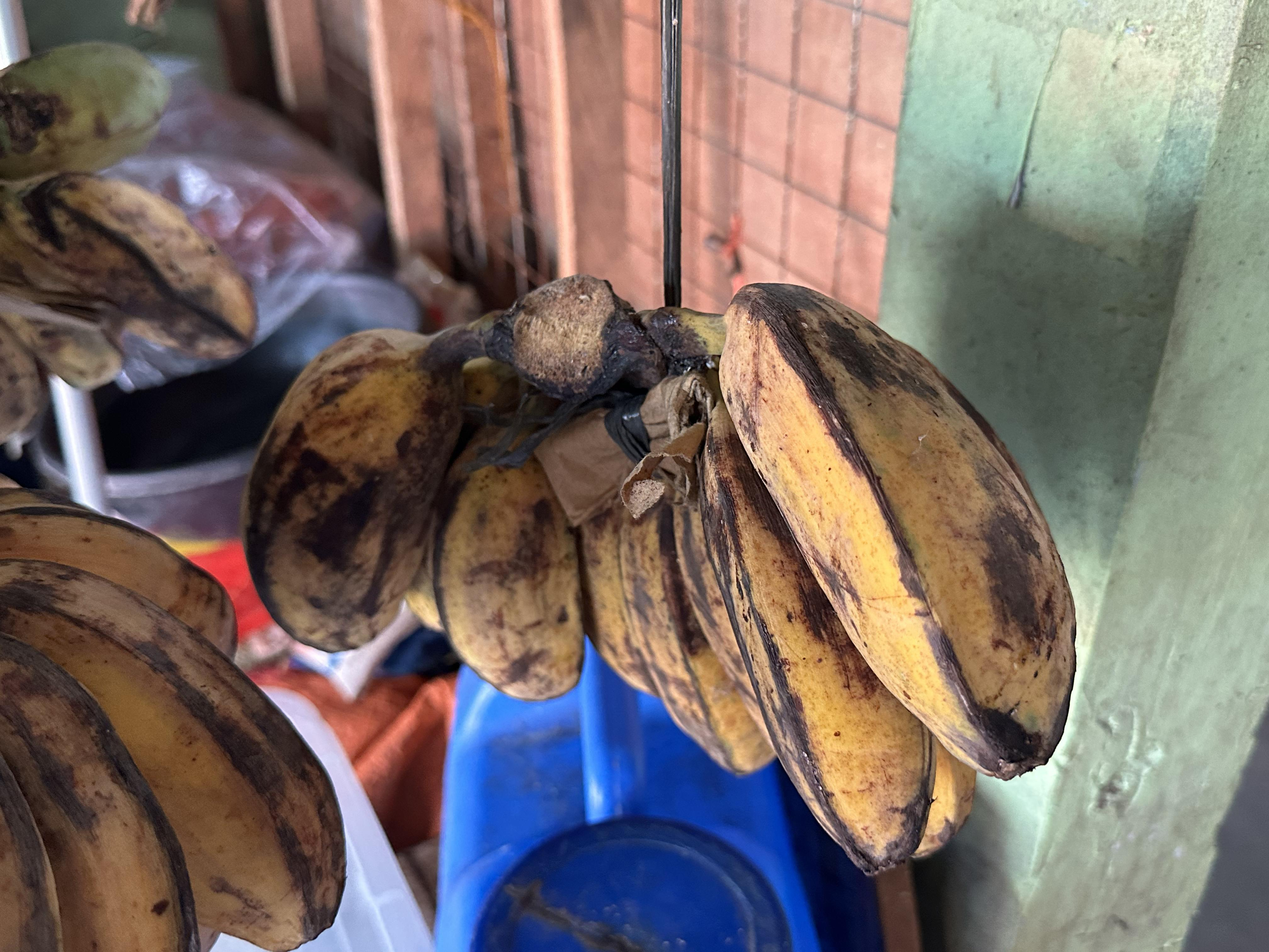ripe: (242, 284, 1075, 872), (0, 490, 346, 952), (0, 42, 256, 441)
